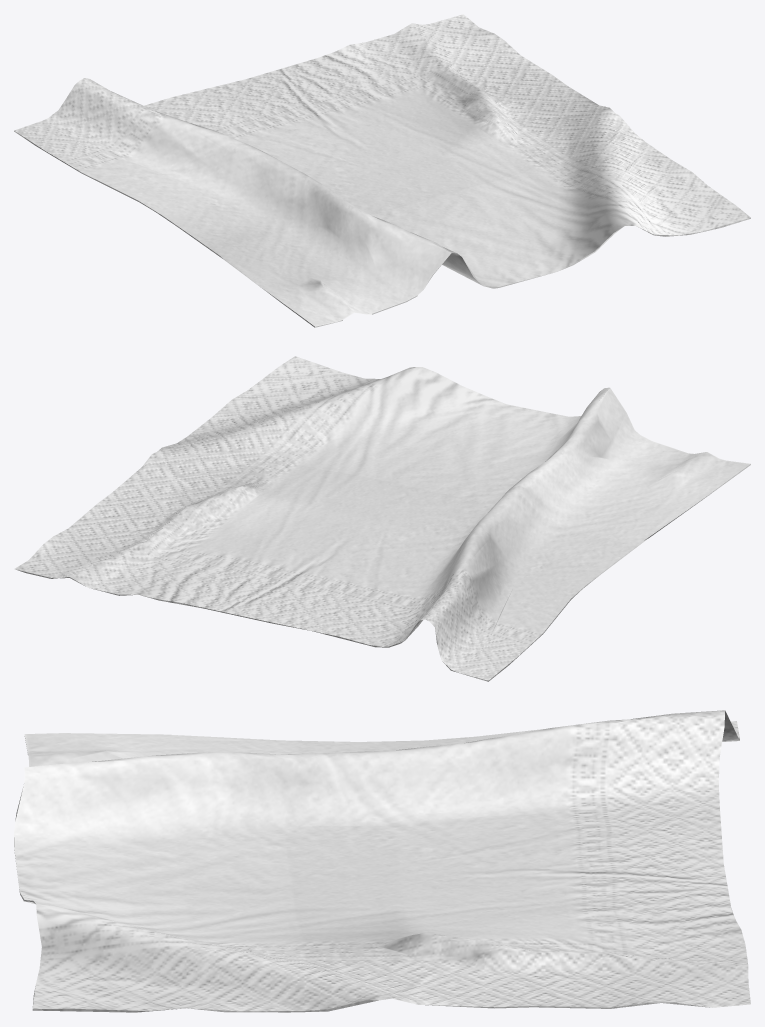
File: Napkin.FBX
3 views of the same model, one above another, from view 1: azimuth 30°, elevation 25°; view 2: azimuth 150°, elevation 25°; view 3: azimuth 270°, elevation 25° (orthographic). The views are drawn at different scales.
Visible parts, largest first — view 1: Napkin; view 2: Napkin; view 3: Napkin.
Boxes of the visible parts, left/top/right/bottom form: Napkin: left=14, top=14, right=750, bottom=327; Napkin: left=14, top=356, right=750, bottom=681; Napkin: left=14, top=710, right=750, bottom=1012.
Bounding box in the file's own units: 20.39 × 1.96 × 21.88.
Materials: 1 (1 with a texture image).
